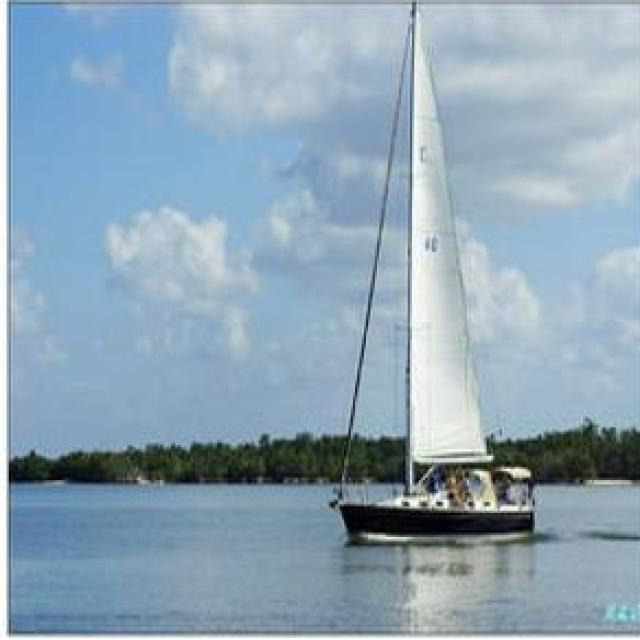sailboat: (352, 32, 548, 549)
